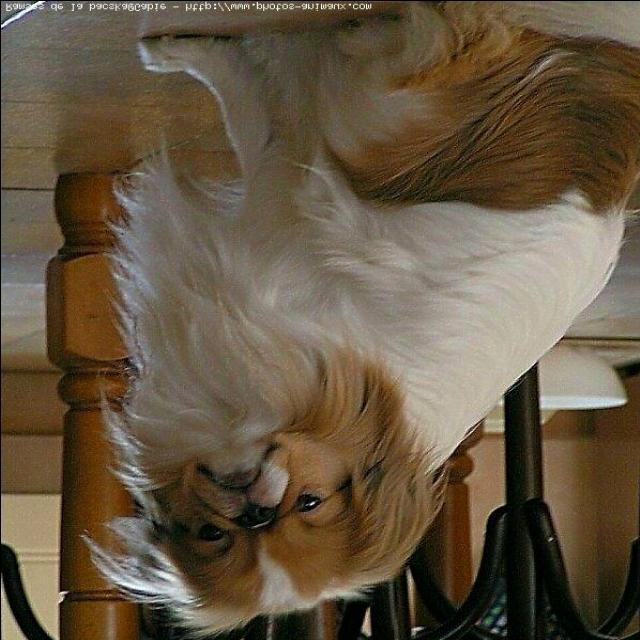husky: (75, 1, 638, 634)
